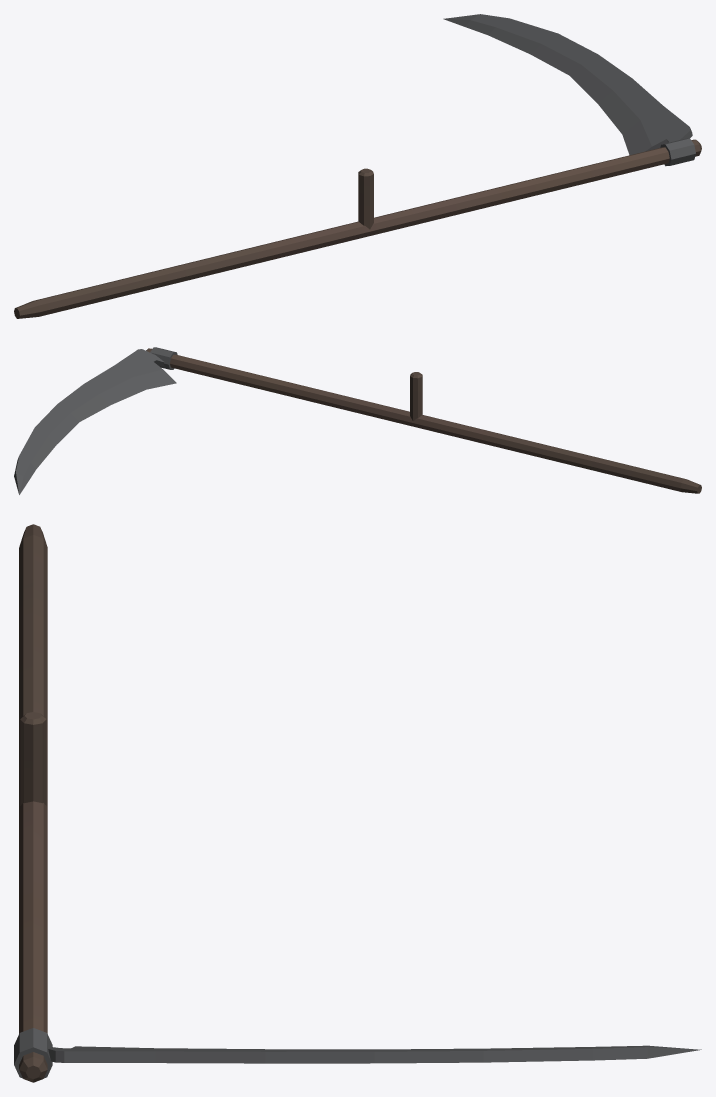
Rendered from scene_ZDSL41QDFr.glb.
3 renders of one model, top to bottom at view 1: azimuth 30°, elevation 25°; view 2: azimuth 150°, elevation 25°; view 3: azimuth 270°, elevation 25°, orthographic. The views are drawn at different scales.
Parts seen in each view (by area): view 1: Sickle.002; view 2: Sickle.002; view 3: Sickle.002.
Part boxes in pixels (box(x1,y1,x2,y2)): Sickle.002: box(14, 14, 701, 318); Sickle.002: box(14, 347, 701, 494); Sickle.002: box(14, 524, 701, 1082).
Size of the model in its own units: 3.68 by 0.3534 by 1.96.
Materials: 1 (1 with a texture image).
